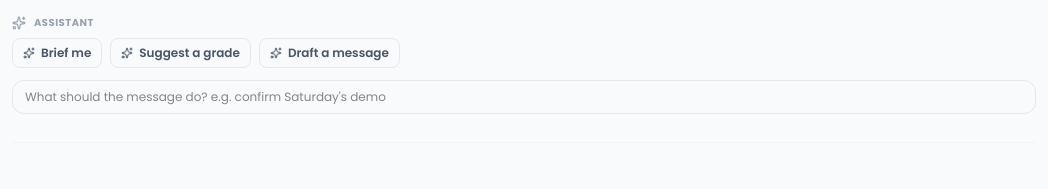
it: Assistant › offers no apply button when the model did not name a grade we use
This screenshot has width=1048, height=189.
Click the button "Suggest a grade" at coordinates (181, 53), box [110,38,251,68]
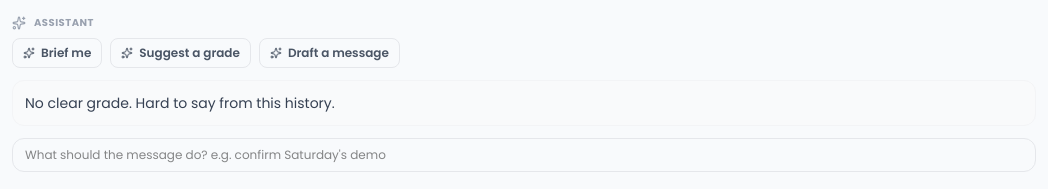
expect the text "No clear grade. Hard to say from this history." is shown: met, box [25,93,335,113]
